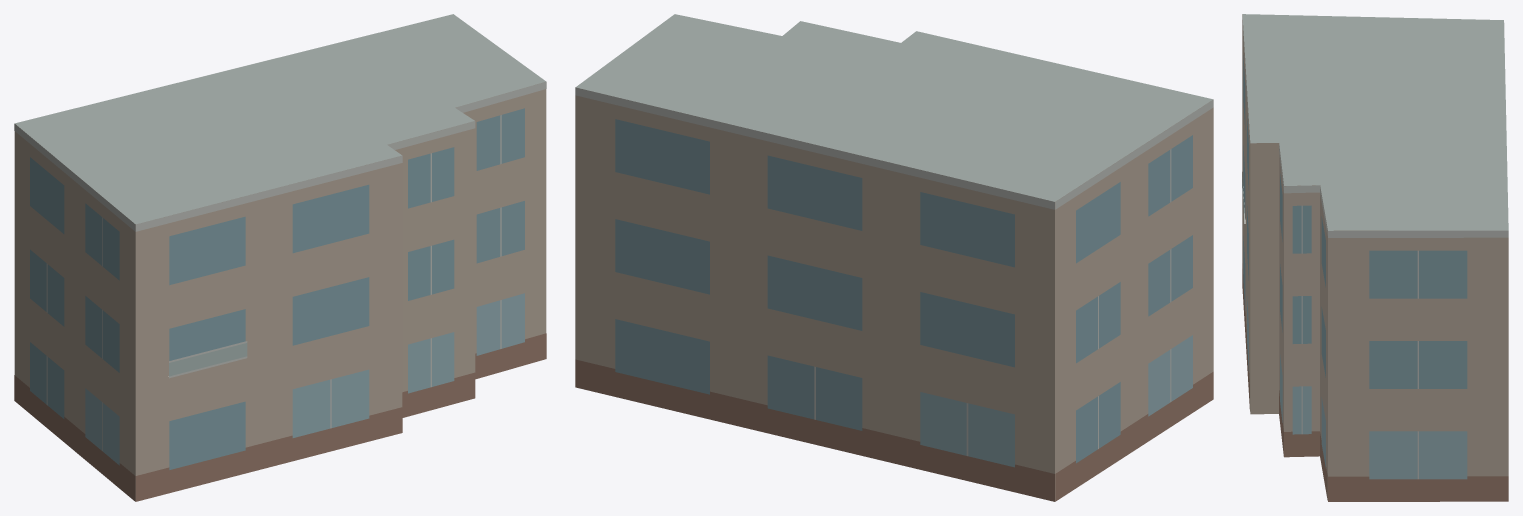
File: survey-upis-32611994.glb
The picture shows the model from 3 angles, left to right: view 1: azimuth 30°, elevation 25°; view 2: azimuth 150°, elevation 25°; view 3: azimuth 270°, elevation 25°; orthographic projection. The views are drawn at different scales.
Parts seen in each view (by area): view 1: survey-upis-32611994.tmp; view 2: survey-upis-32611994.tmp; view 3: survey-upis-32611994.tmp.
Part boxes in pixels (x1,y1,x2,y2): survey-upis-32611994.tmp: [14, 14, 546, 501]; survey-upis-32611994.tmp: [575, 14, 1213, 501]; survey-upis-32611994.tmp: [1242, 14, 1508, 501].
Bounding box in the file's own units: 15.7 × 9.15 × 8.16.
